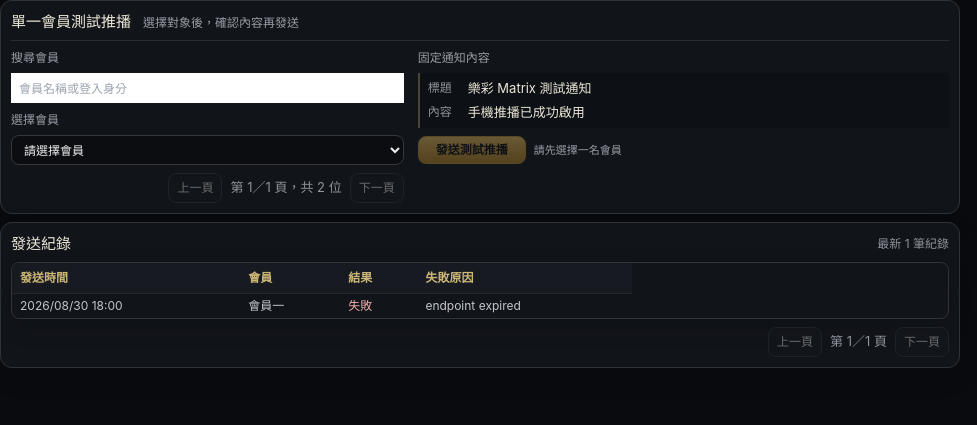
Test case: NotificationManagement › shows fixed copy for a production HTTP 400 error envelope
The image size is (977, 425).
Select "會員一" in the dropdown named "選擇會員" at (207,150), box [11,135,404,165]
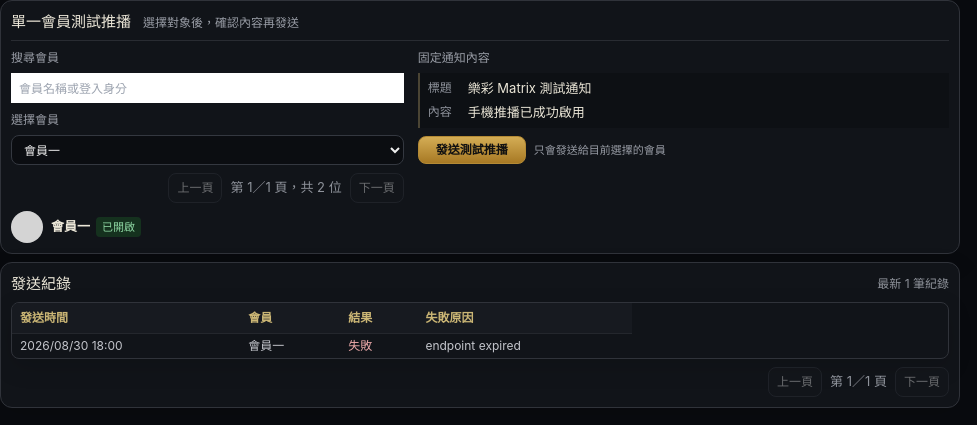
Click the button "發送測試推播" at (472,150), box [418,136,526,164]
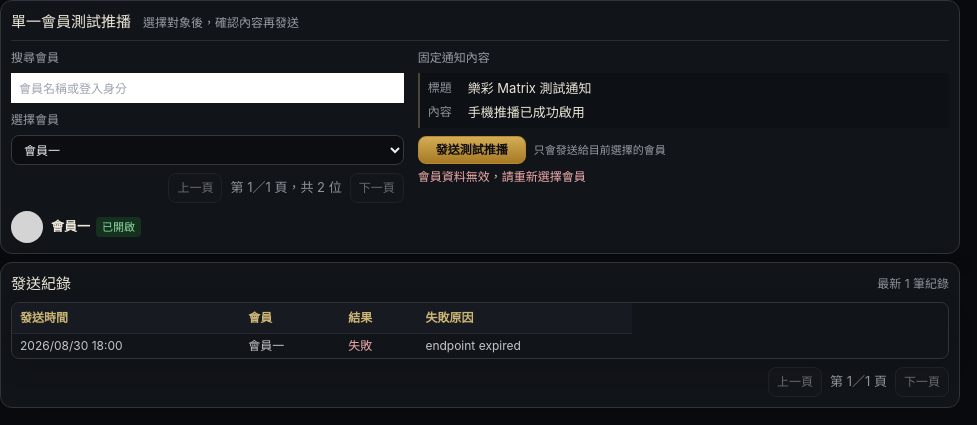
Now the text "會員資料無效，請重新選擇會員" is shown, box [418,169,586,184]
